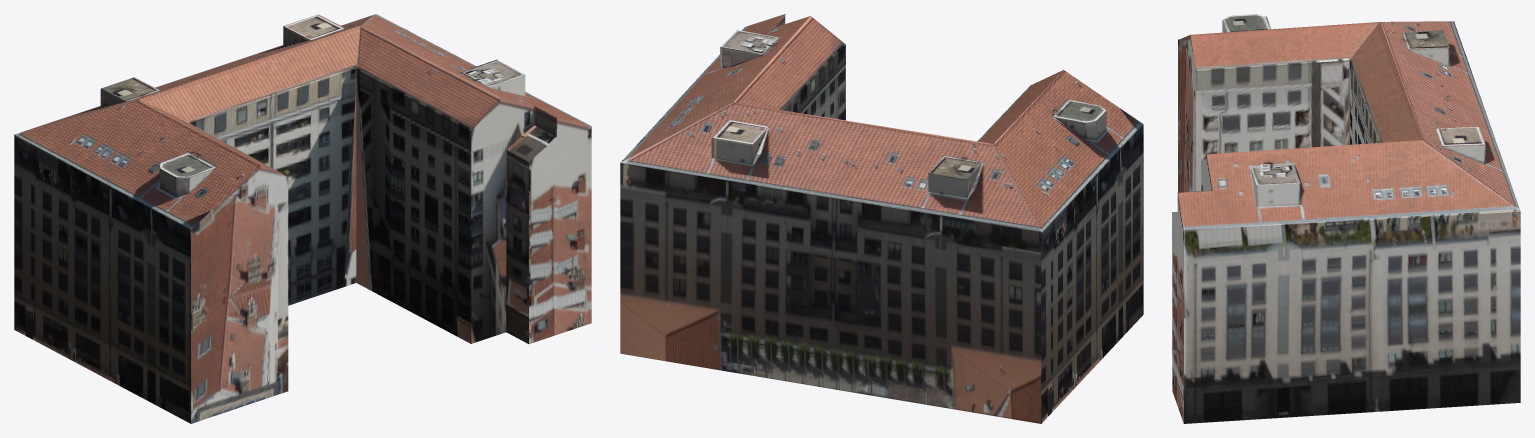
The picture shows the model from 3 angles, left to right: view 1: azimuth 30°, elevation 25°; view 2: azimuth 150°, elevation 25°; view 3: azimuth 270°, elevation 25°; orthographic projection. The views are drawn at different scales.
Visible parts, largest first — view 1: Z_UP; view 2: Z_UP; view 3: Z_UP.
Part boxes in pixels (x1,y1,x2,y2): Z_UP: (14, 14, 591, 423); Z_UP: (620, 14, 1143, 423); Z_UP: (1172, 14, 1520, 423).
Size of the model in its own units: 55.72 by 28.68 by 38.9.
2 materials, 1 textured.
